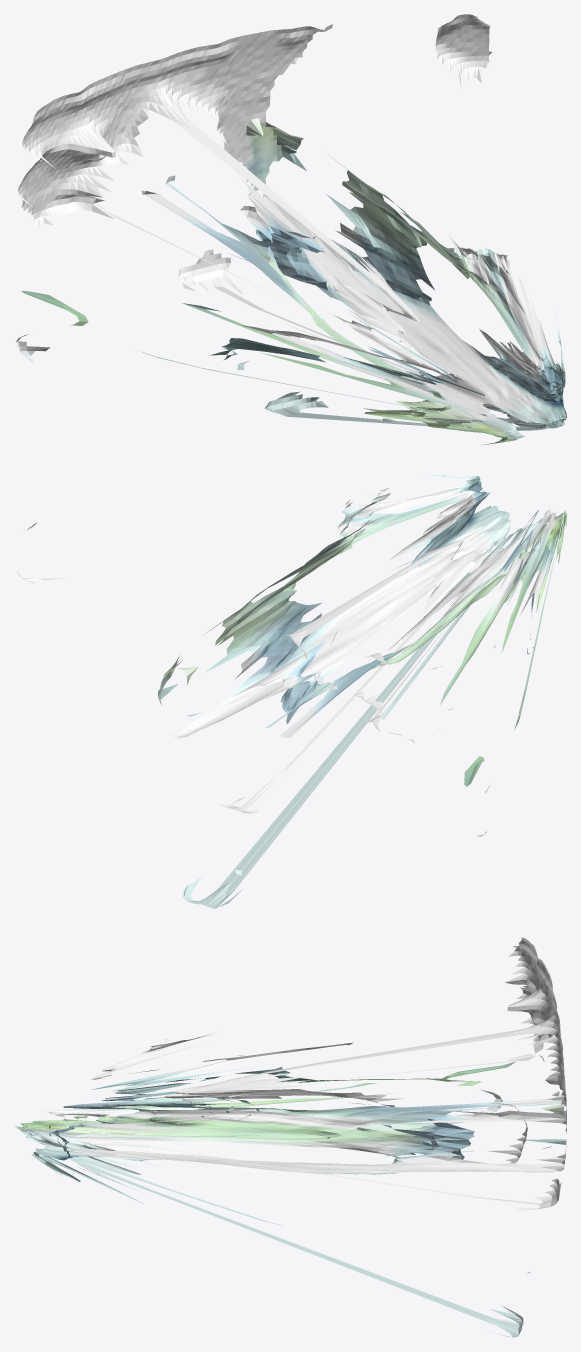
3 views of the same model, one above another, from view 1: azimuth 30°, elevation 25°; view 2: azimuth 150°, elevation 25°; view 3: azimuth 270°, elevation 25° (orthographic). The views are drawn at different scales.
Parts seen in each view (by area): view 1: defaultobject; view 2: defaultobject; view 3: defaultobject.
Part boxes in pixels (left/top/right/bottom): defaultobject: left=16, top=14, right=566, bottom=444; defaultobject: left=17, top=475, right=566, bottom=908; defaultobject: left=14, top=937, right=566, bottom=1337.
Bounding box in the file's own units: 37.48 × 26.79 × 44.87.
1 material, 1 textured.
